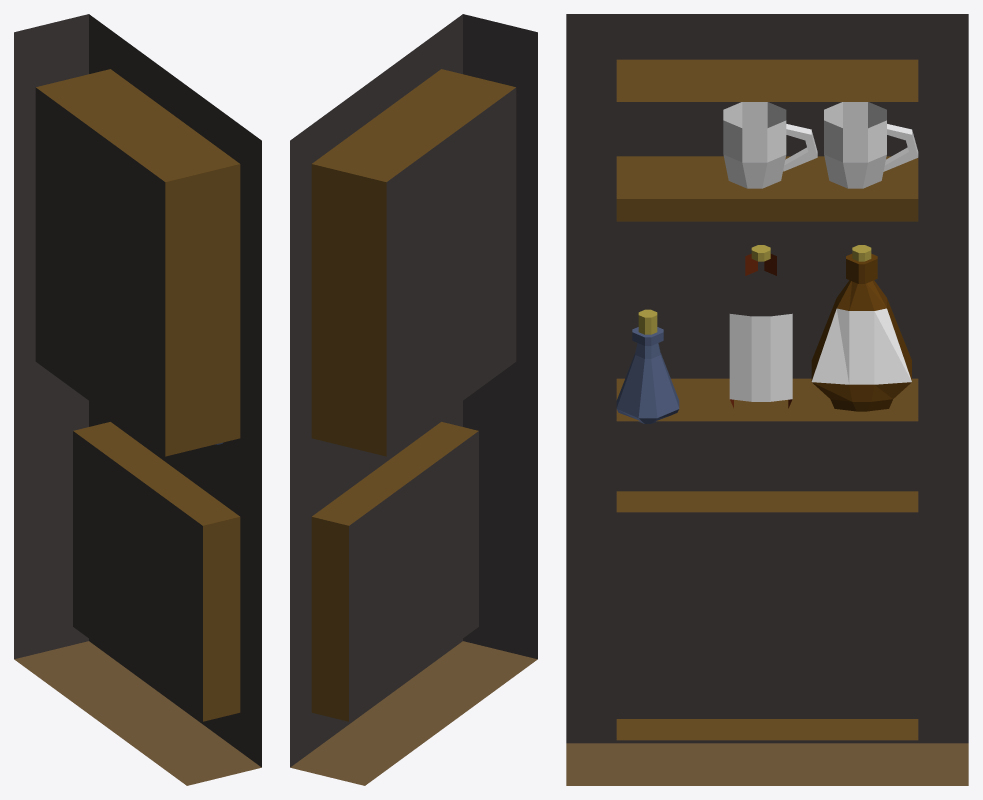
Rendered from obj_shelves_2_0.obj.
The picture shows the model from 3 angles, left to right: view 1: azimuth 30°, elevation 25°; view 2: azimuth 150°, elevation 25°; view 3: azimuth 270°, elevation 25°; orthographic projection. The views are drawn at different scales.
Size of the model in its own units: 0.2656 by 2 by 1.
